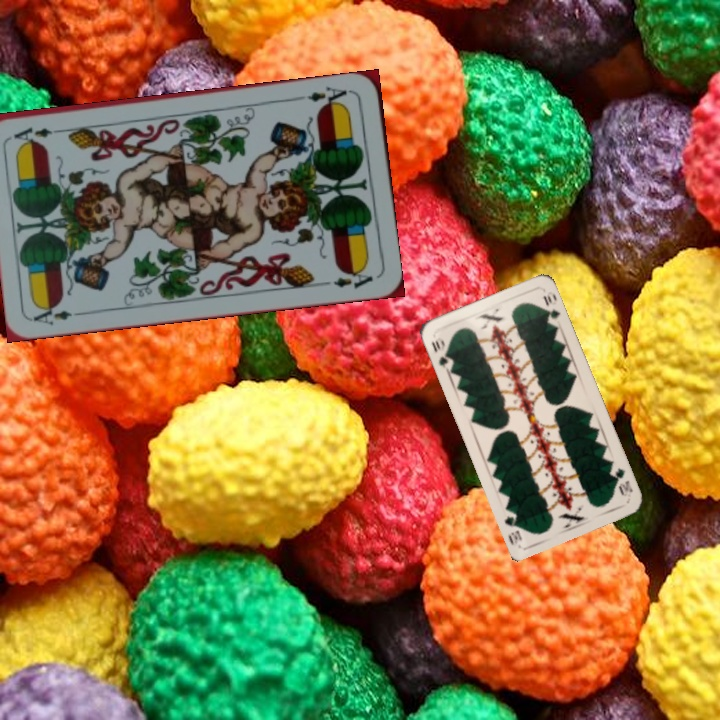EA: (29, 301, 89, 328), (303, 83, 355, 110)
G10: (427, 336, 453, 372), (610, 464, 635, 499)
